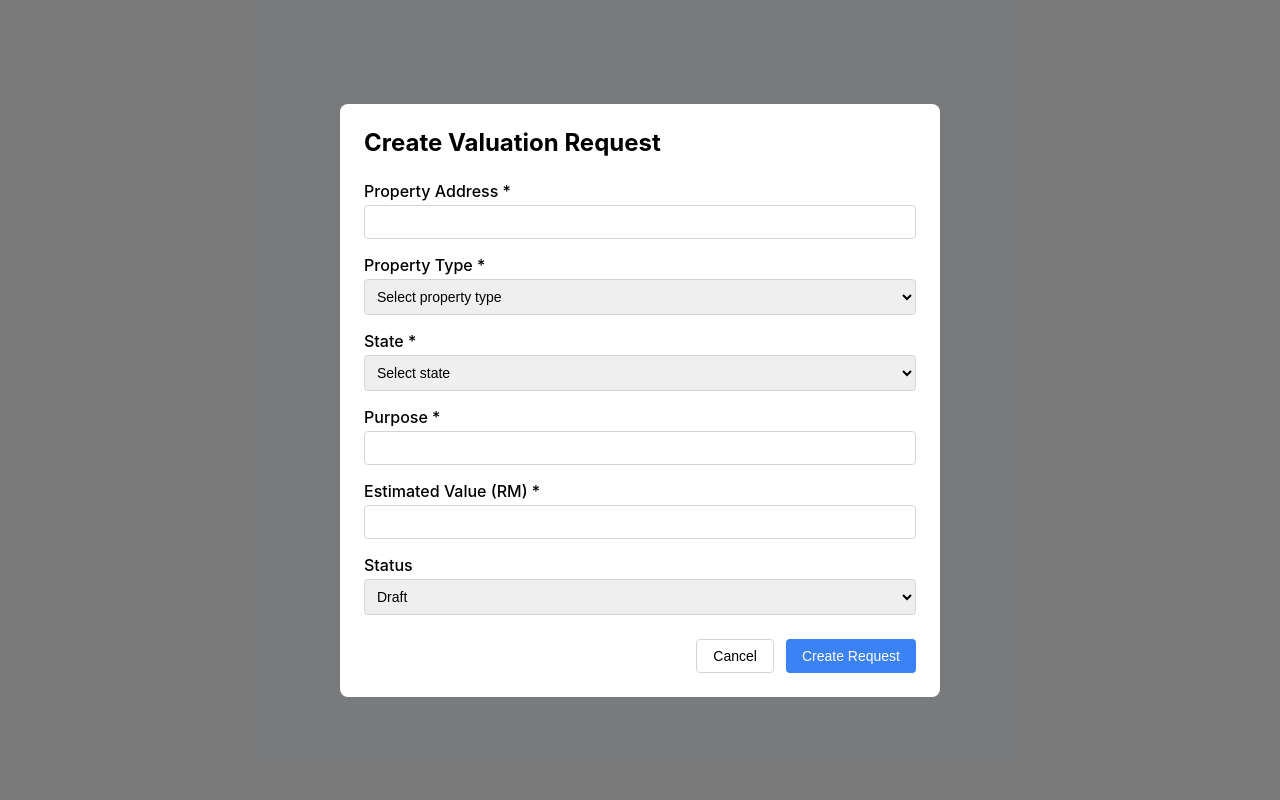
it: RequestForm › validates required fields on submit
Step 1. Click the button "Create Request" → point(851, 656), box [786,638,916,672]
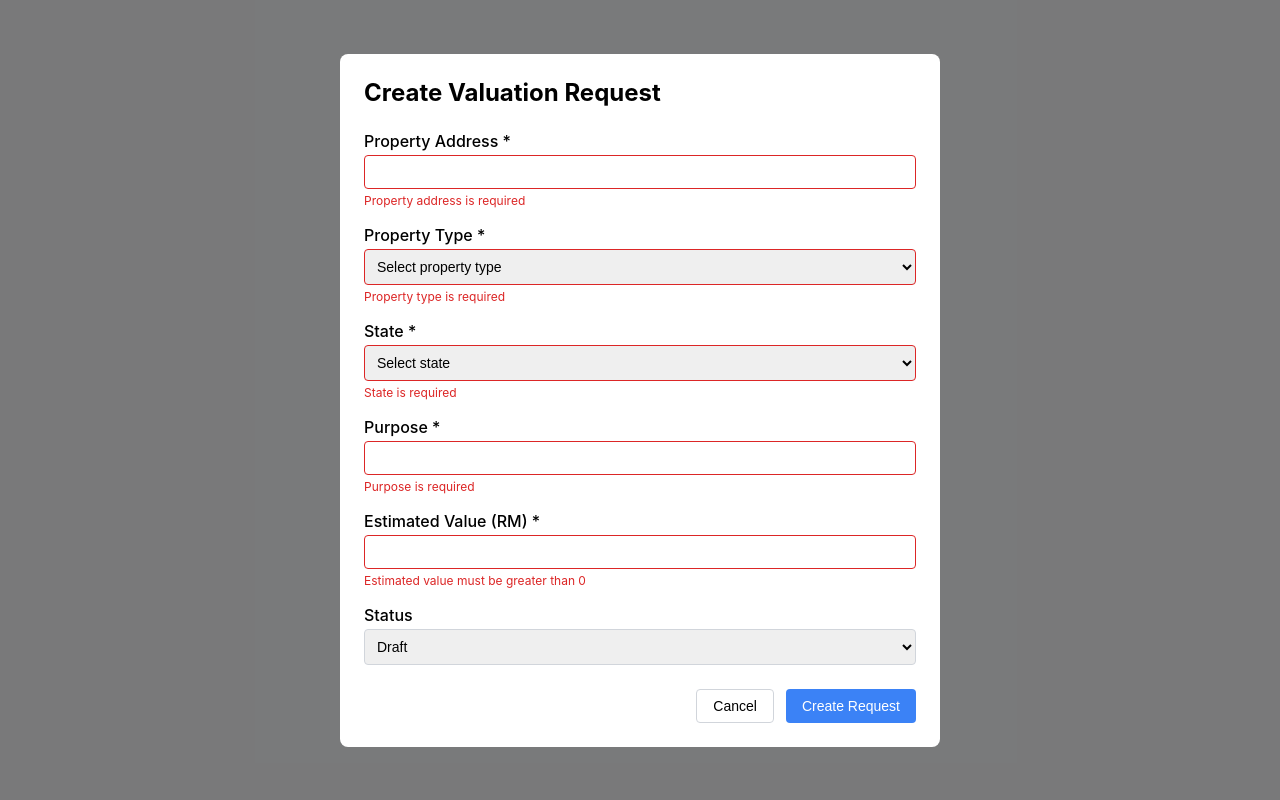
Check: the text "Property address is required" is shown, box [364,192,525,208]
Check: the text "Property type is required" is shown, box [364,288,505,304]
Check: the text "State is required" is shown, box [364,384,456,400]
